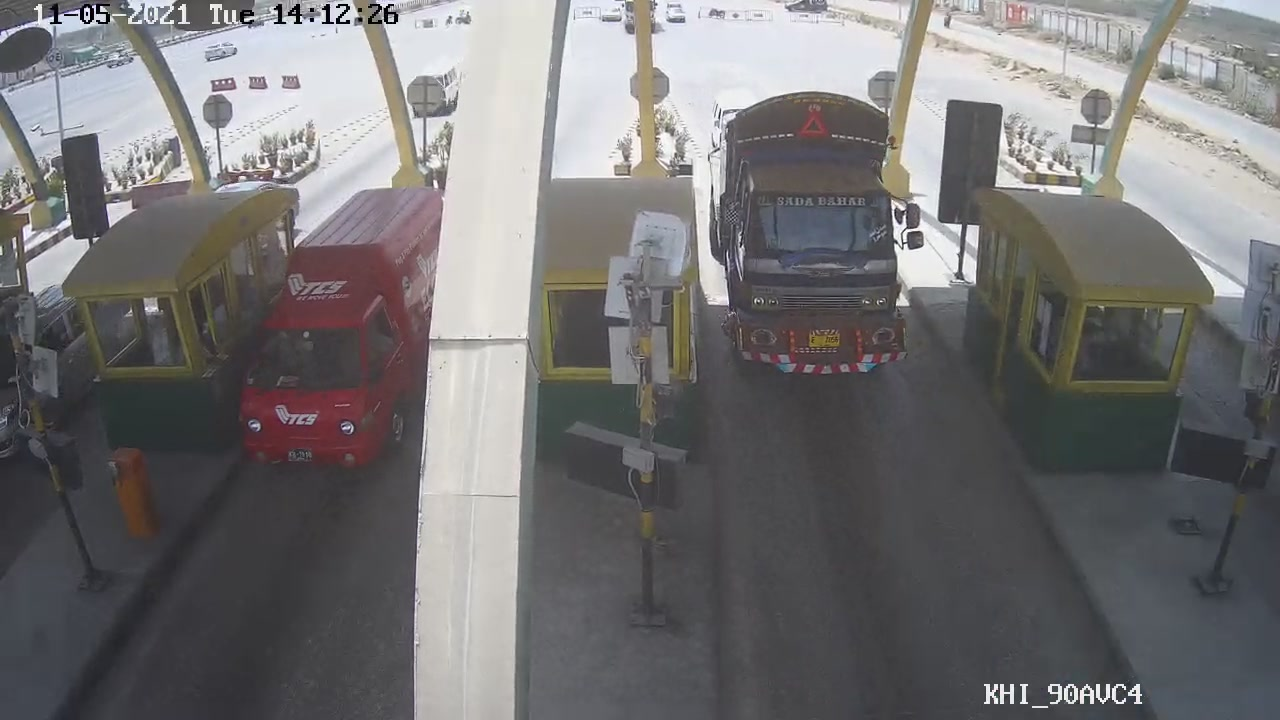F5: (701, 84, 926, 381)
